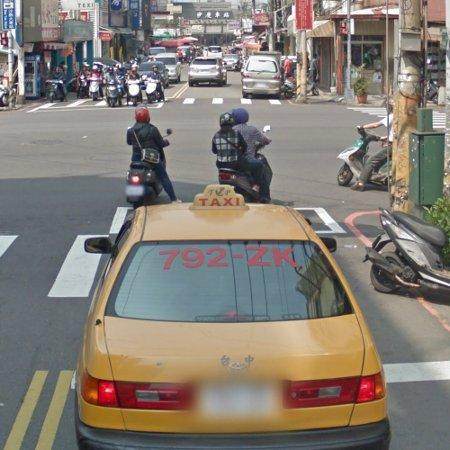taxis: (75, 185, 391, 450)
